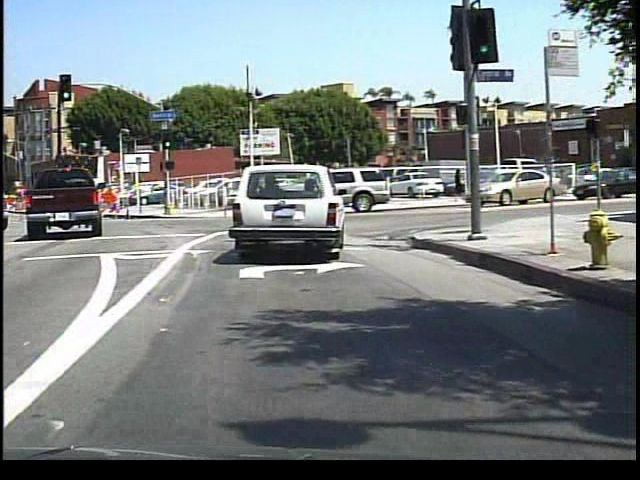person: (448, 161, 467, 205)
